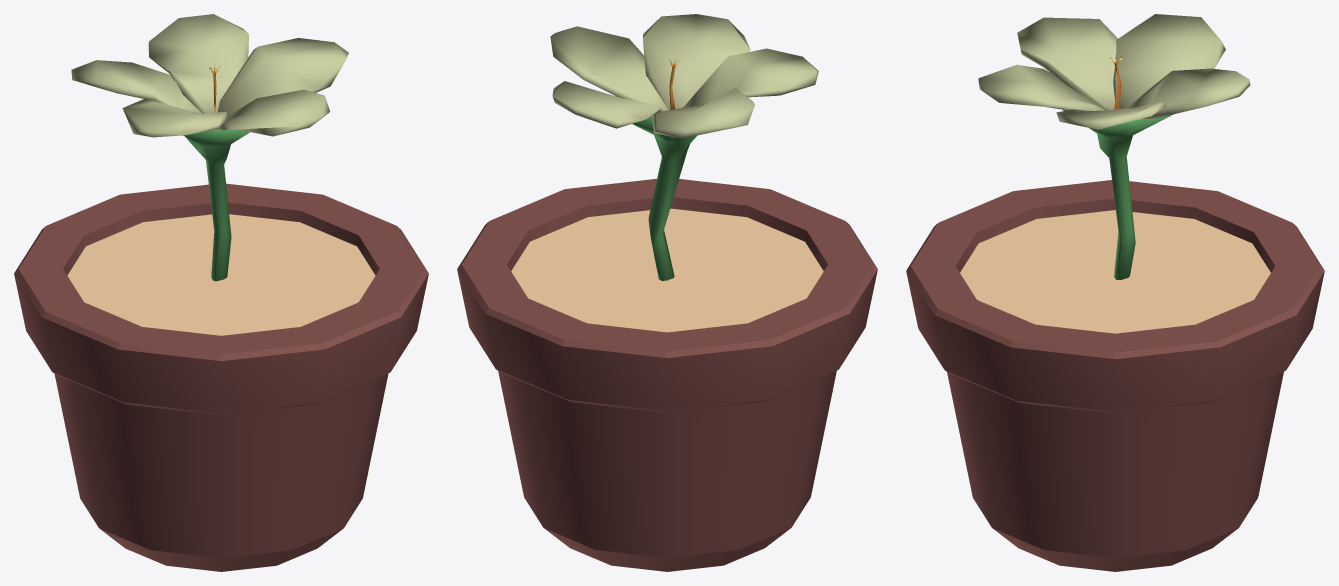
Rendered from HibiscoCinza.fbx.
3 views of the same model, side by side, from view 1: azimuth 30°, elevation 25°; view 2: azimuth 150°, elevation 25°; view 3: azimuth 270°, elevation 25° (orthographic).
Visible parts, largest first — view 1: HibiscoBranco2_LOD0; view 2: HibiscoBranco2_LOD0; view 3: HibiscoBranco2_LOD0.
Part boxes in pixels (box(x1,y1,x2,y2)): HibiscoBranco2_LOD0: box(14, 14, 428, 571); HibiscoBranco2_LOD0: box(457, 14, 877, 571); HibiscoBranco2_LOD0: box(906, 14, 1324, 571).
Size of what is drawn, in the model's own units: 0.2833 by 0.3468 by 0.2833.
